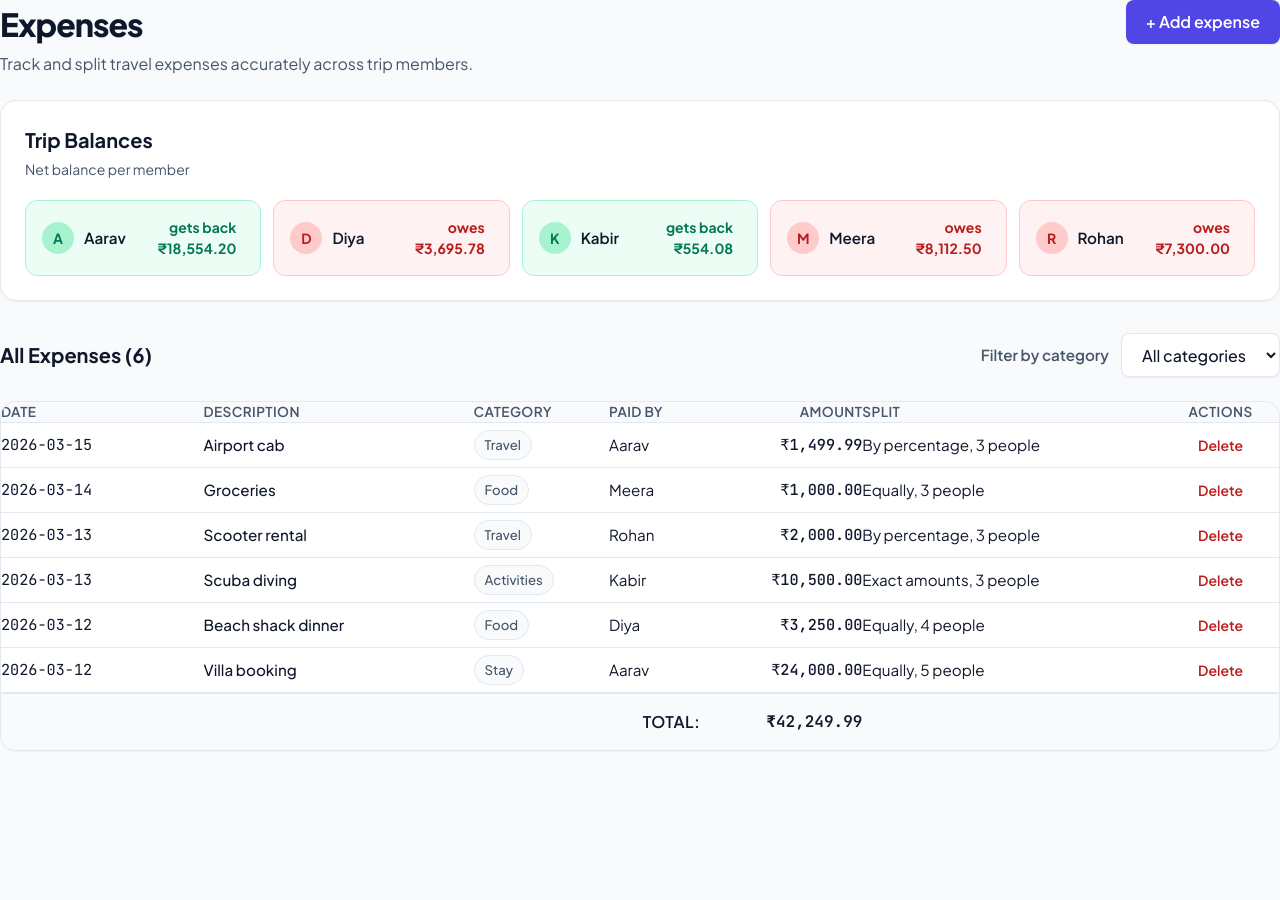
Test: ExpensesPage › deletes expense when confirmed, updating table and balances immediately
The width and height of the screenshot is (1280, 900).
Click the button named "delete airport cab". click: (1221, 445)
box: [1186,423,1255,467]
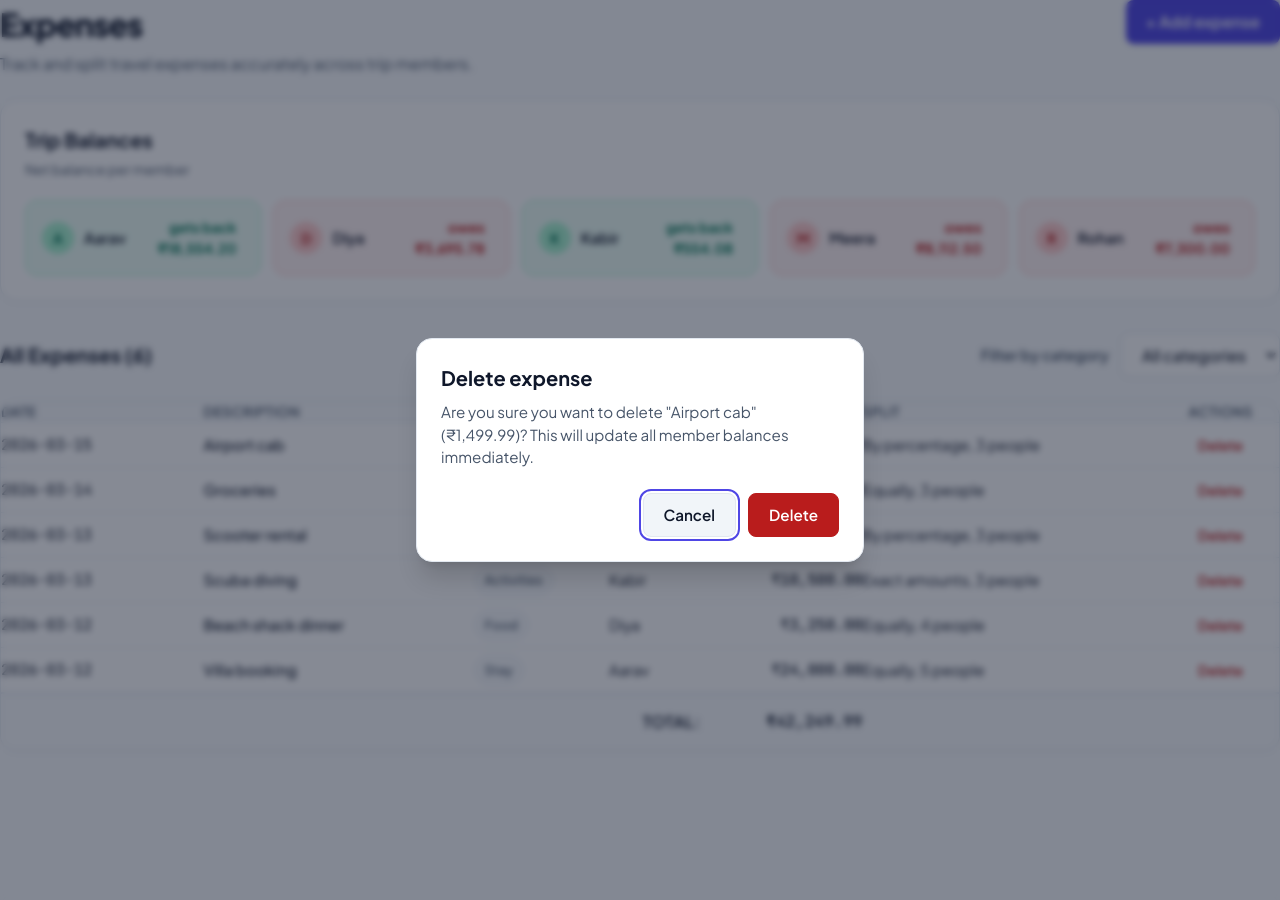
// Click Delete in dialog
Click the button "Delete". click: (794, 515)
box: [748,493,839,537]
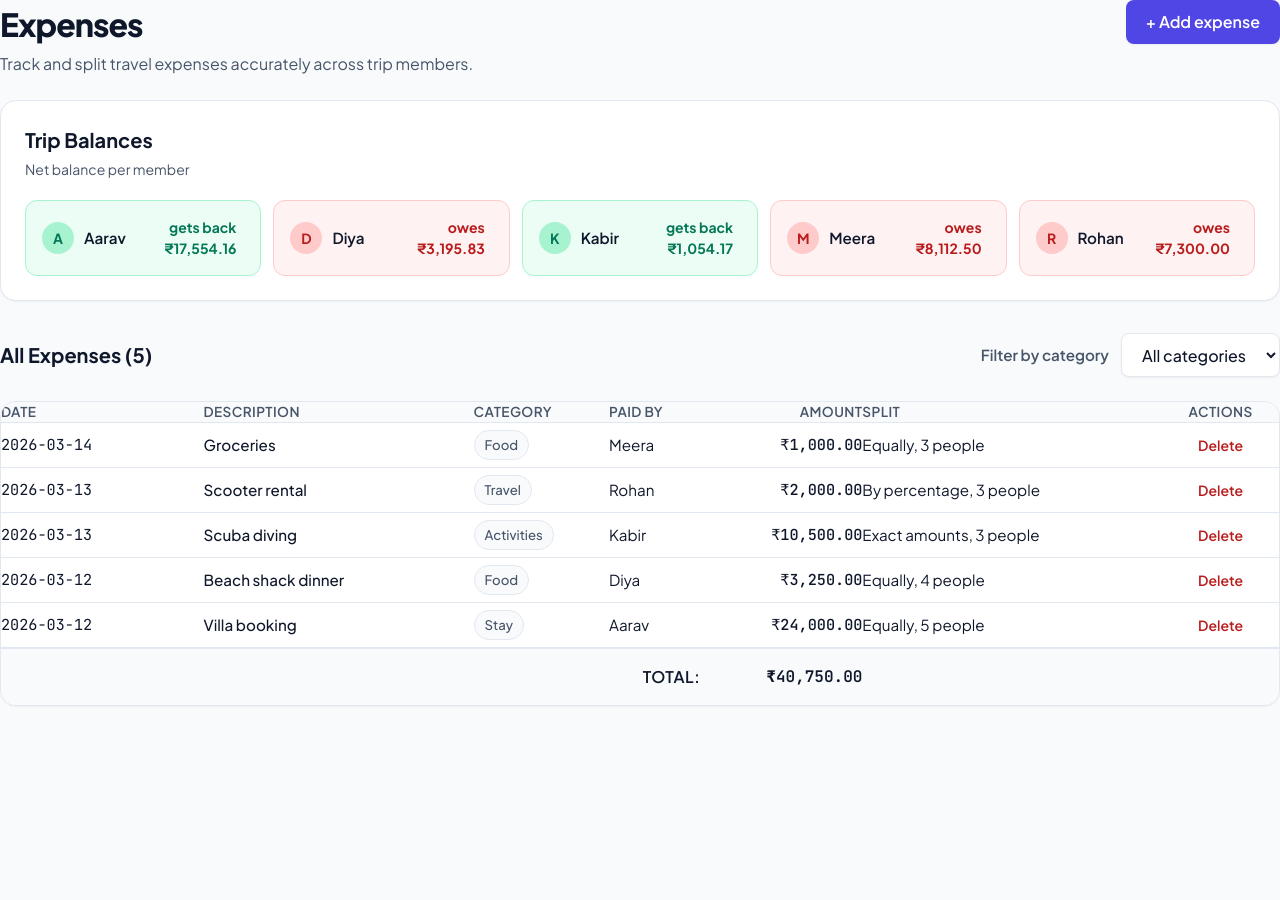
Expected: the text "Aarav — gets back ₹18,554.20" is not shown
Expected: the text "Airport cab" is gone
